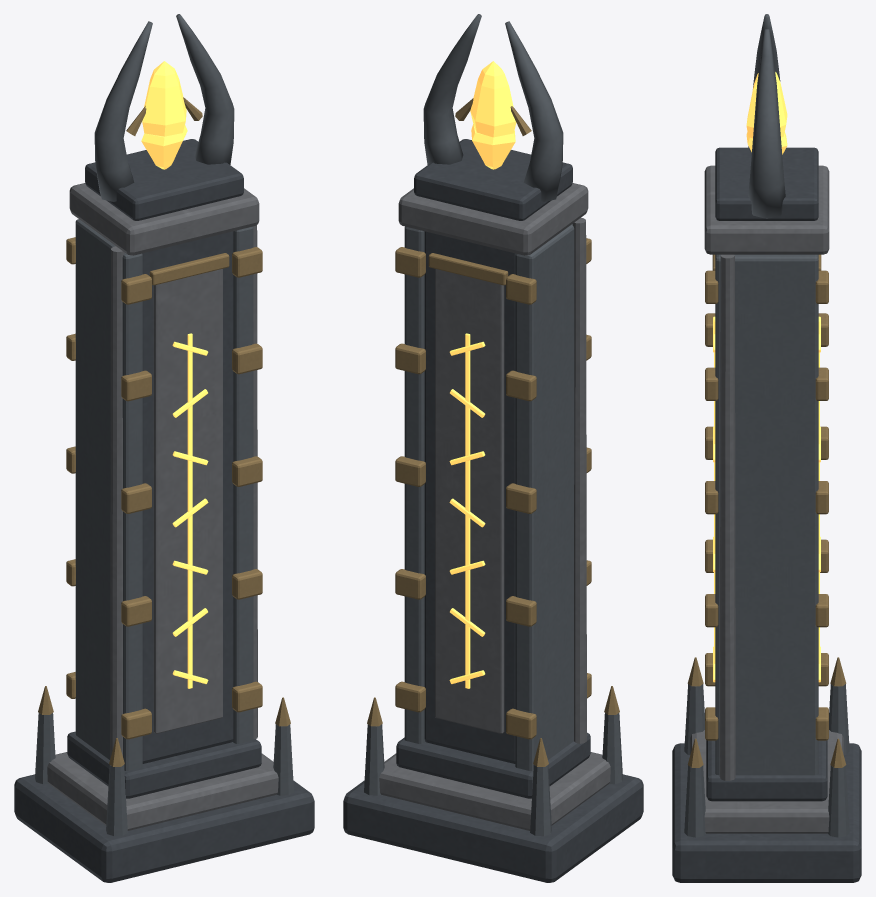
The model's file is sanctum_gate.glb.
The picture shows the model from 3 angles, left to right: view 1: azimuth 30°, elevation 25°; view 2: azimuth 150°, elevation 25°; view 3: azimuth 270°, elevation 25°; orthographic projection.
Parts seen in each view (by area): view 1: sanctum tier 0.32, dais bollard -1_-1, sanctum tier 0.13, dais spike -1_-1, ember rune -1_0; view 2: sanctum tier 0.32, dais bollard -1_-1, sanctum tier 0.13, dais spike -1_-1, ember rune -1_0; view 3: dais bollard -1_-1, sanctum tier 0.13, sanctum tier 0.32, dais spike -1_-1, ember rune -1_0.
Boxes of the visible parts, x1,y1,x2,y2 form: sanctum tier 0.32: (47,183,278,830); dais bollard -1_-1: (35,14,293,836); sanctum tier 0.13: (14,139,314,882); dais spike -1_-1: (38,97,290,766); ember rune -1_0: (141,61,208,688); sanctum tier 0.32: (379,183,610,830); dais bollard -1_-1: (364,14,622,836); sanctum tier 0.13: (343,139,643,882); dais spike -1_-1: (367,98,619,766); ember rune -1_0: (449,61,516,688); dais bollard -1_-1: (684,14,849,837); sanctum tier 0.13: (672,147,861,882); sanctum tier 0.32: (690,165,843,833); dais spike -1_-1: (687,254,846,767); ember rune -1_0: (713,72,820,682).
Size of the model in its own units: 1.38 by 5.03 by 1.06.
Materials: 5 (4 with a texture image).
